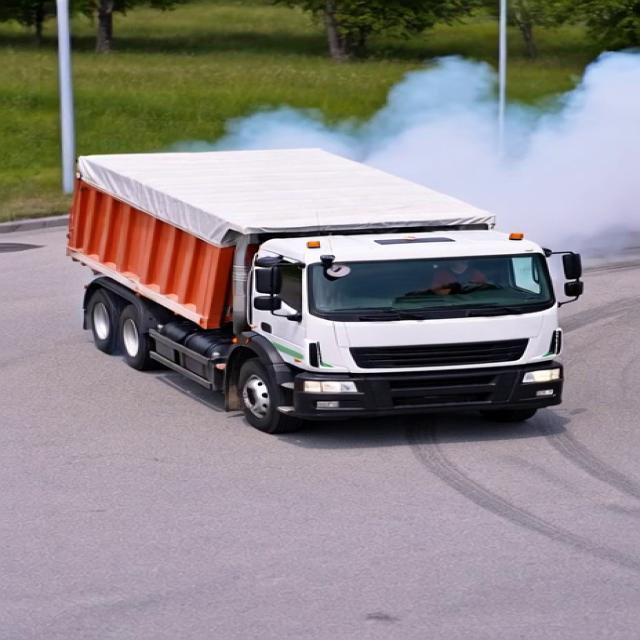Box: (56, 146, 505, 234)
Truck: (41, 145, 631, 422)
